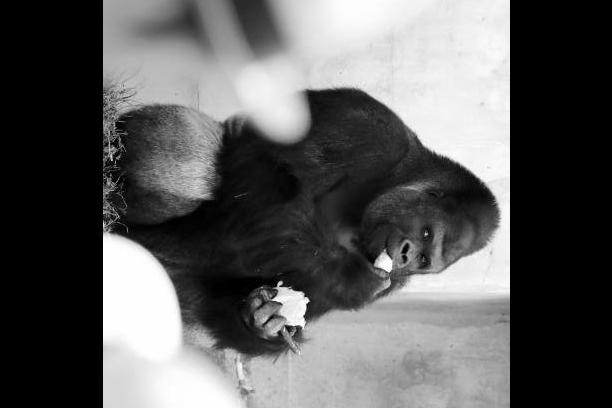gorille_Autres: (165, 104, 510, 354)
